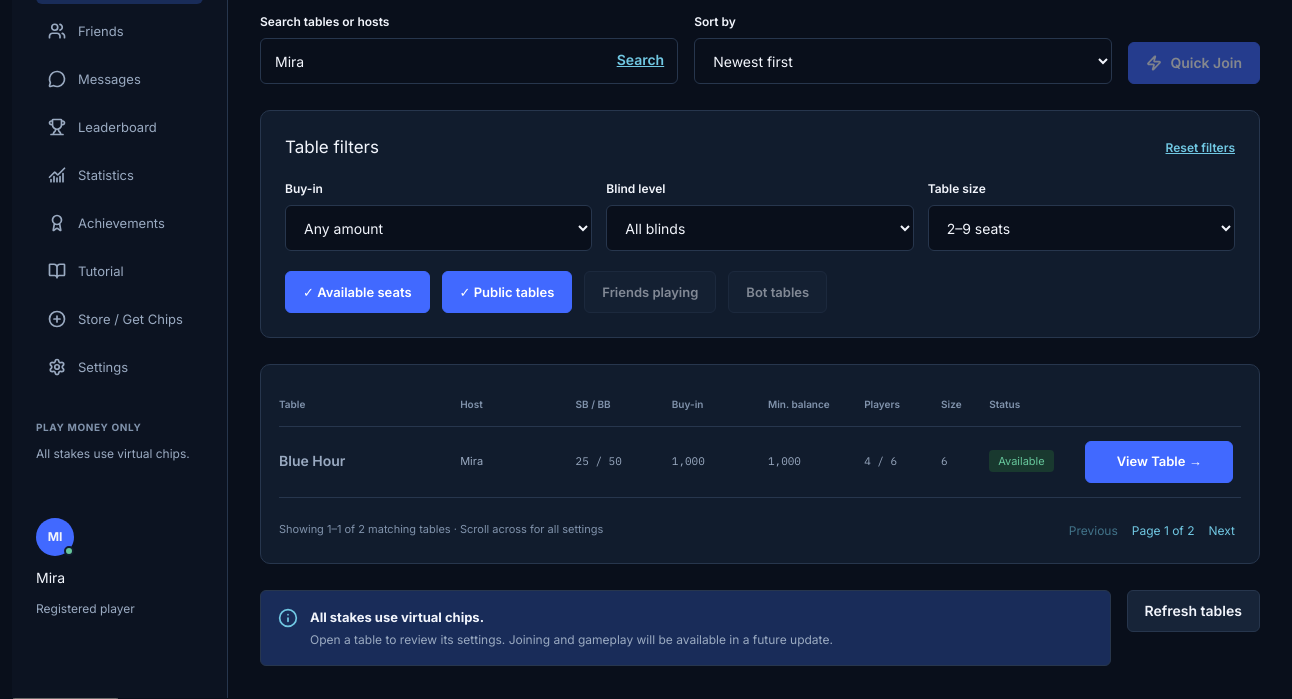
Test: pagination preserves filters and updates the matching range
The width and height of the screenshot is (1292, 699).
(page scrolled)
Expected: the text "Showing 1–1 of 2 matching tables" is shown, [279,522,451,536]
Expected: the button "Previous" is disabled, [1063,516,1124,545]
Step 1. Click the button "Next" → (1222, 530), box [1202,516,1241,545]
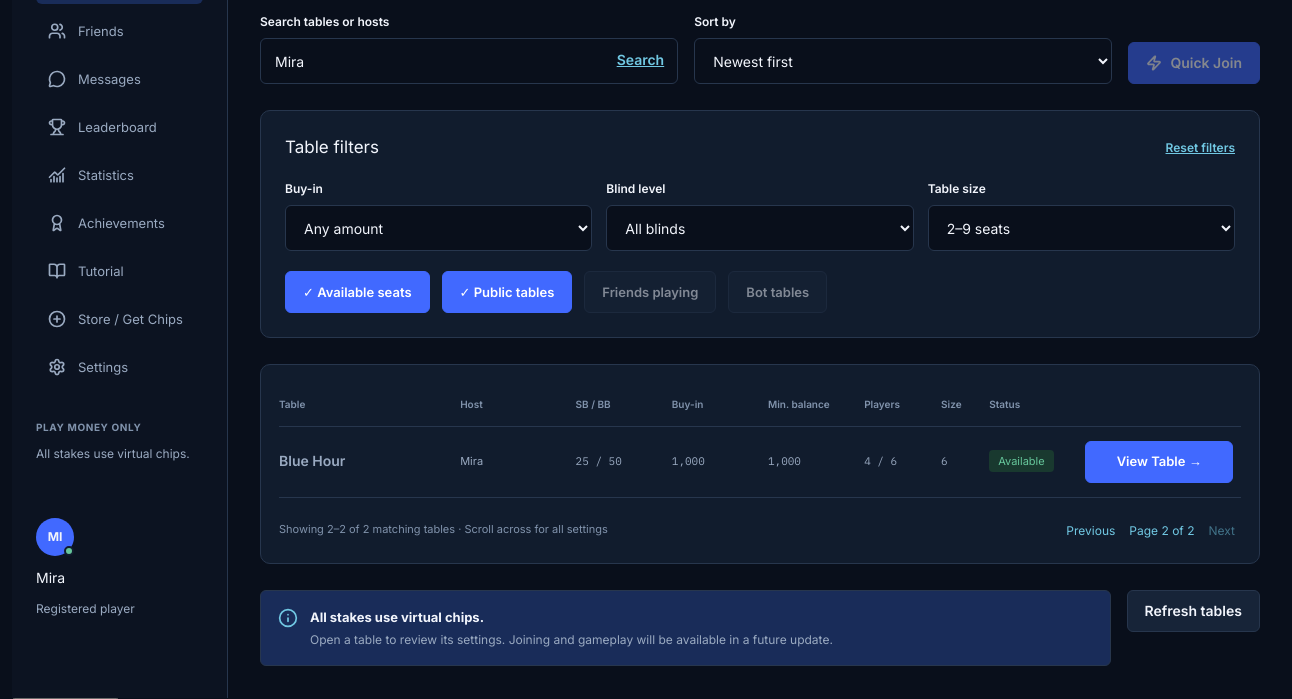
Now the text "Showing 2–2 of 2 matching tables" is shown, box [279,522,455,536]
Now the button "Next" is disabled, box [1202,516,1241,545]
Step 2. Click the button "Previous" → (1091, 530), box [1060,516,1121,545]
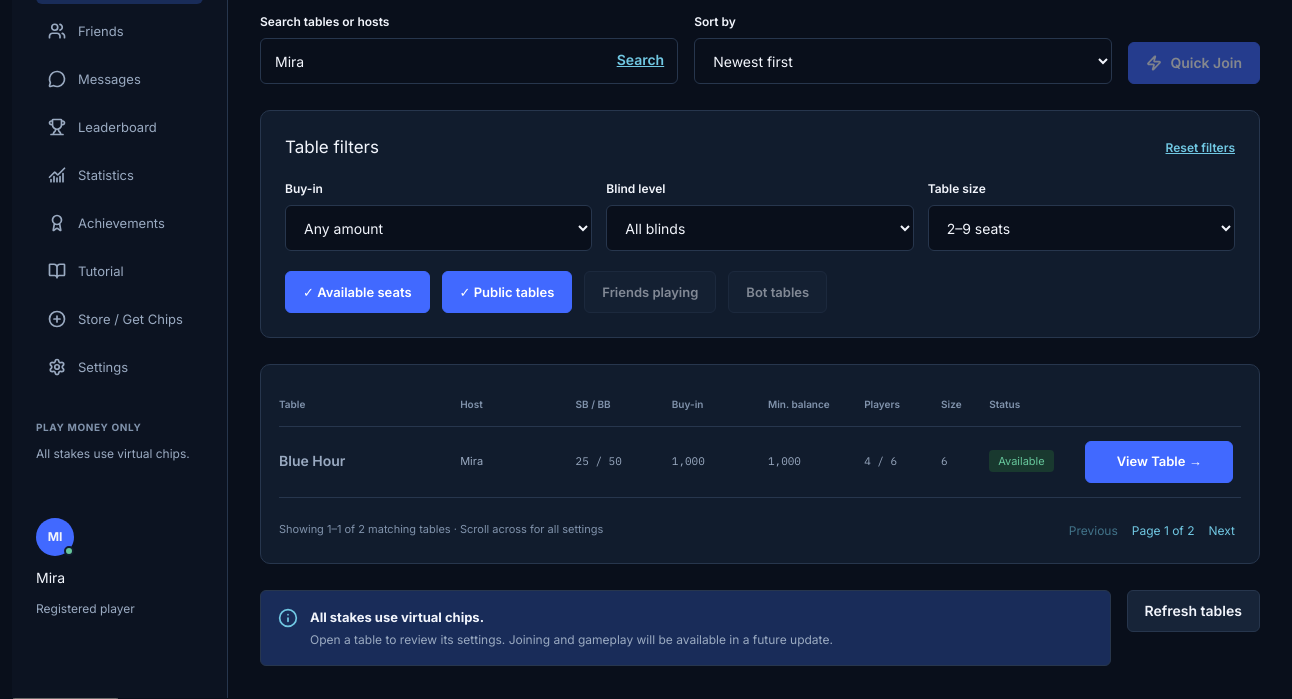
Now the text "Showing 1–1 of 2 matching tables" is shown, box [279,522,451,536]
